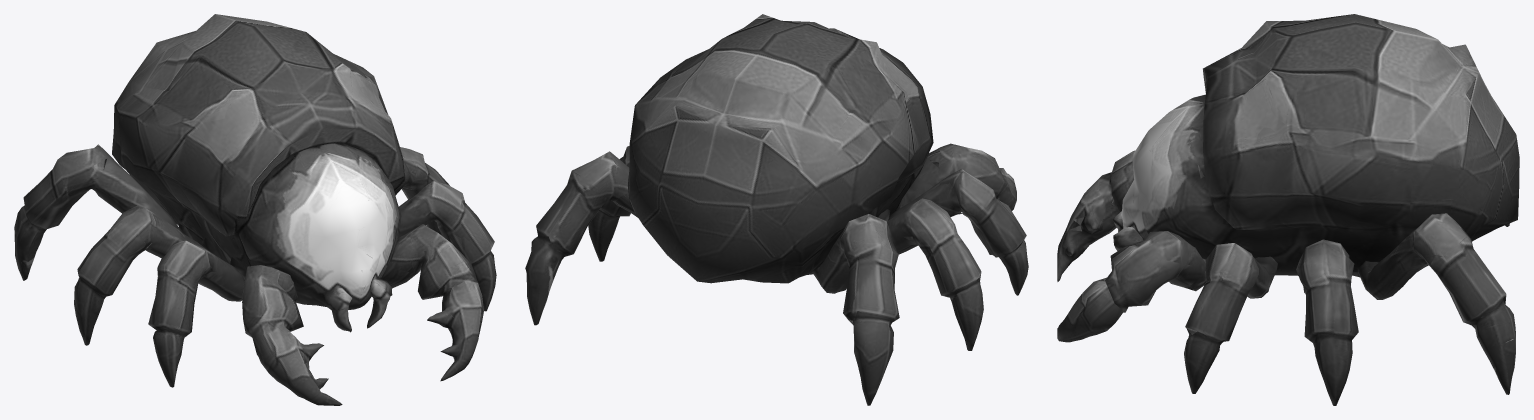
File: swarmer.glb
3 renders of one model, left to right at view 1: azimuth 30°, elevation 25°; view 2: azimuth 150°, elevation 25°; view 3: azimuth 270°, elevation 25°, orthographic. The views are drawn at different scales.
Bounding box in the file's own units: 1 × 0.6911 × 0.9993.
Materials: 1 (1 with a texture image).
